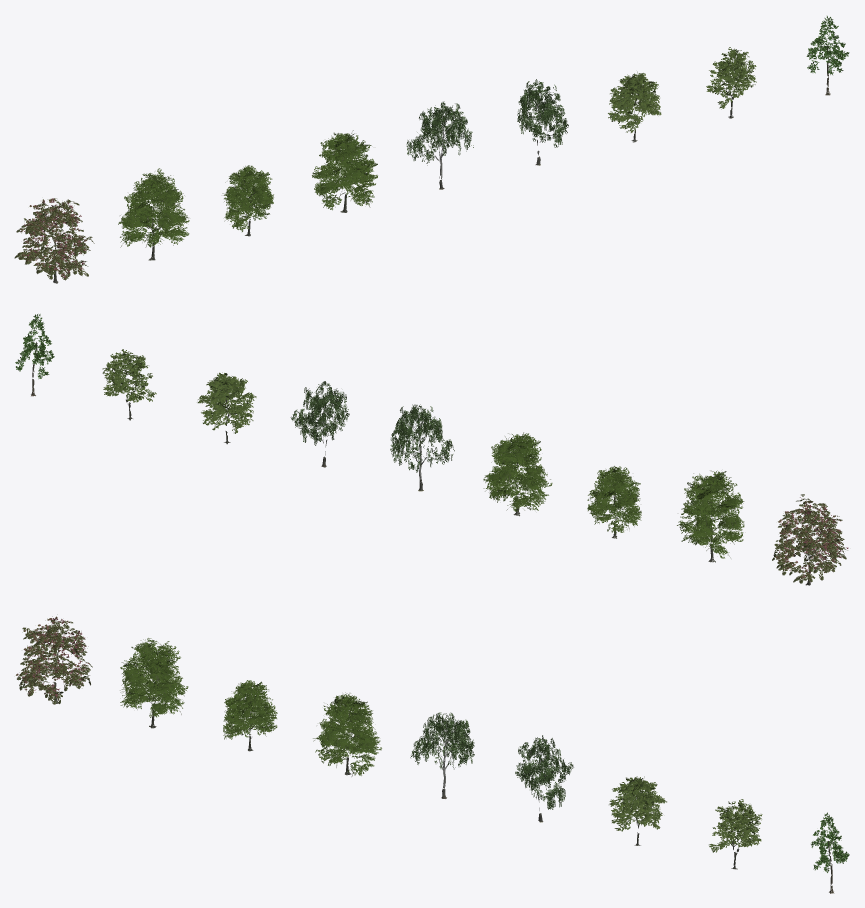
Rendered from pack01.glb.
The picture shows the model from 3 angles, top to bottom: view 1: azimuth 30°, elevation 25°; view 2: azimuth 150°, elevation 25°; view 3: azimuth 330°, elevation 25°; orthographic projection.
Visible parts, largest first — view 1: Tree_011, Tree_013, Tree_015, Tree_016, Tree_014, Tree_018, Tree_022, Tree_024, Tree_025; view 2: Tree_011, Tree_013, Tree_015, Tree_014, Tree_016, Tree_022, Tree_018, Tree_024, Tree_025; view 3: Tree_011, Tree_013, Tree_015, Tree_016, Tree_018, Tree_014, Tree_022, Tree_024, Tree_025.
Boxes of the visible parts, x1=… form: Tree_011: x1=14, y1=198, x2=94, y2=283; Tree_013: x1=118, y1=168, x2=189, y2=260; Tree_015: x1=312, y1=130, x2=377, y2=212; Tree_016: x1=406, y1=101, x2=473, y2=189; Tree_014: x1=222, y1=165, x2=273, y2=236; Tree_018: x1=517, y1=79, x2=568, y2=165; Tree_022: x1=608, y1=71, x2=661, y2=142; Tree_024: x1=706, y1=47, x2=756, y2=118; Tree_025: x1=806, y1=16, x2=849, y2=95; Tree_011: x1=772, y1=494, x2=848, y2=585; Tree_013: x1=677, y1=470, x2=744, y2=562; Tree_015: x1=483, y1=432, x2=552, y2=516; Tree_014: x1=587, y1=466, x2=641, y2=538; Tree_016: x1=390, y1=404, x2=454, y2=491; Tree_022: x1=197, y1=372, x2=256, y2=444; Tree_018: x1=290, y1=381, x2=349, y2=467; Tree_024: x1=102, y1=349, x2=156, y2=420; Tree_025: x1=15, y1=314, x2=54, y2=396; Tree_011: x1=16, y1=614, x2=92, y2=704; Tree_013: x1=120, y1=638, x2=188, y2=728; Tree_015: x1=313, y1=692, x2=381, y2=776; Tree_016: x1=410, y1=712, x2=474, y2=798; Tree_018: x1=515, y1=735, x2=573, y2=822; Tree_014: x1=223, y1=680, x2=277, y2=751; Tree_022: x1=609, y1=776, x2=666, y2=845; Tree_024: x1=709, y1=799, x2=762, y2=869; Tree_025: x1=811, y1=812, x2=849, y2=893.
Bounding box in the file's own units: 102 × 10.77 × 8.78.
18 materials, 18 textured.
